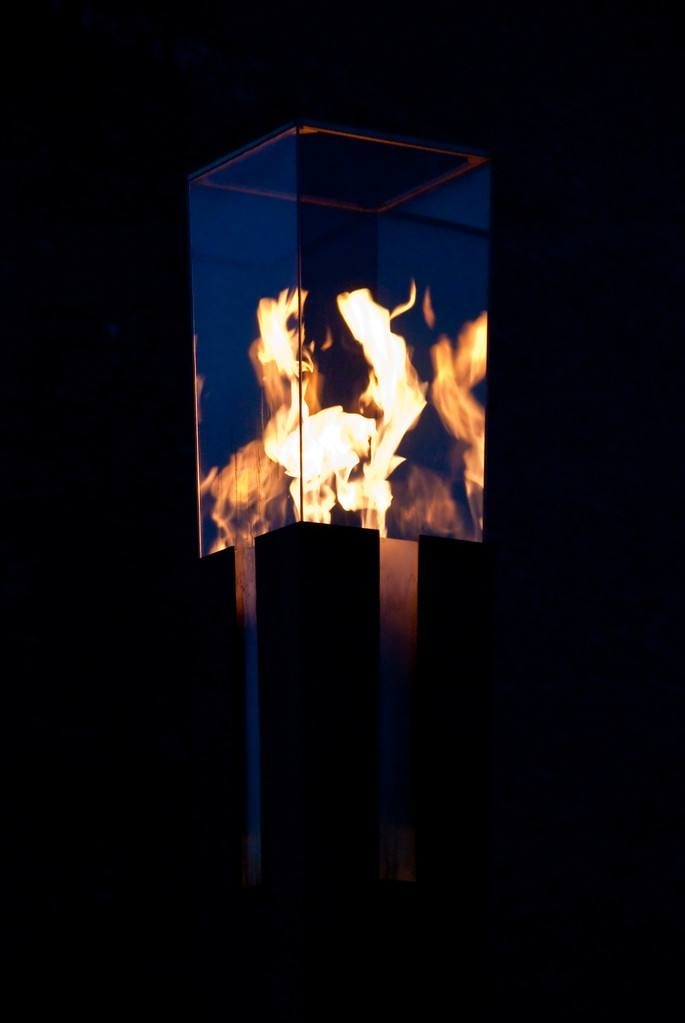fire: (207, 277, 495, 535)
